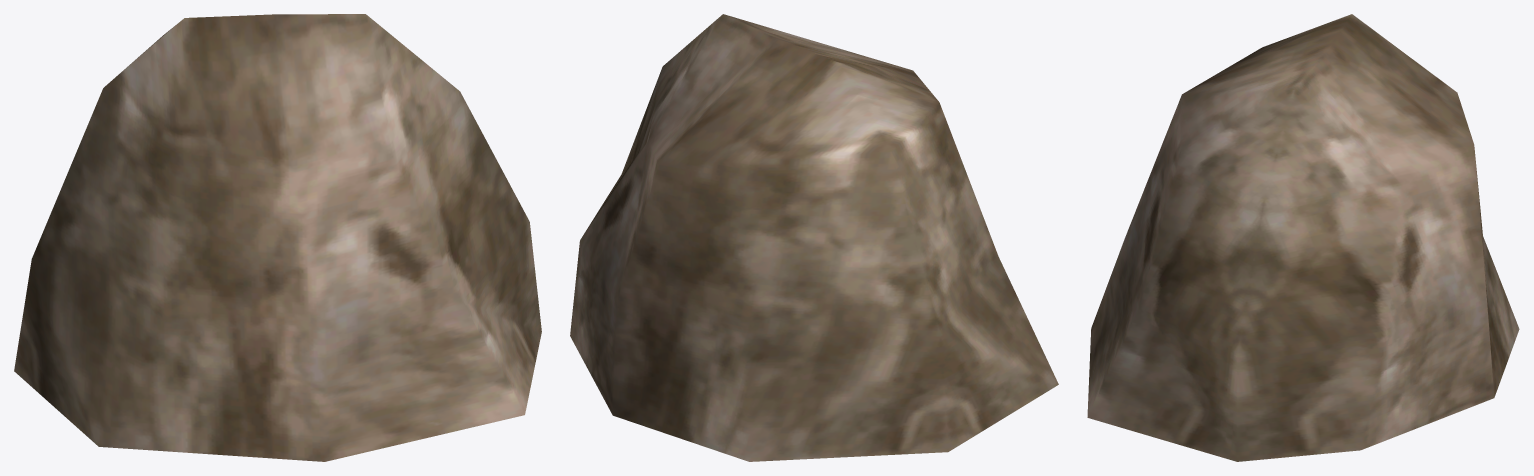
Rendered from OVERHILL_A_01_ROCK40.fbx.
3 views of the same model, side by side, from view 1: azimuth 30°, elevation 25°; view 2: azimuth 150°, elevation 25°; view 3: azimuth 270°, elevation 25° (orthographic). The views are drawn at different scales.
Parts seen in each view (by area): view 1: OVERHILL_A_01_ROCK40; view 2: OVERHILL_A_01_ROCK40; view 3: OVERHILL_A_01_ROCK40.
Boxes of the visible parts, box(x1,y1,x2,y2) form: OVERHILL_A_01_ROCK40: box(14, 14, 541, 461); OVERHILL_A_01_ROCK40: box(570, 14, 1058, 461); OVERHILL_A_01_ROCK40: box(1087, 14, 1519, 461).
Bounding box in the file's own units: 22605 × 16337 × 20321.
1 material, 1 textured.
